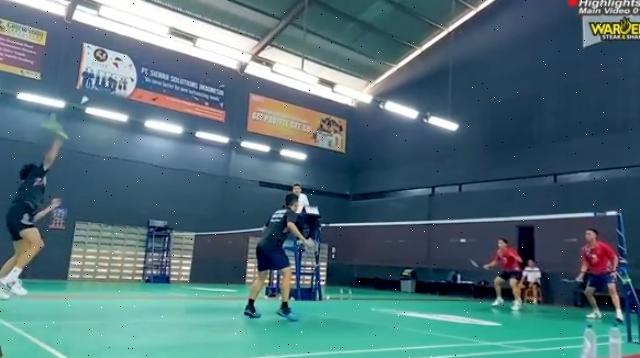Shuttlecock: (78, 94, 90, 106)
